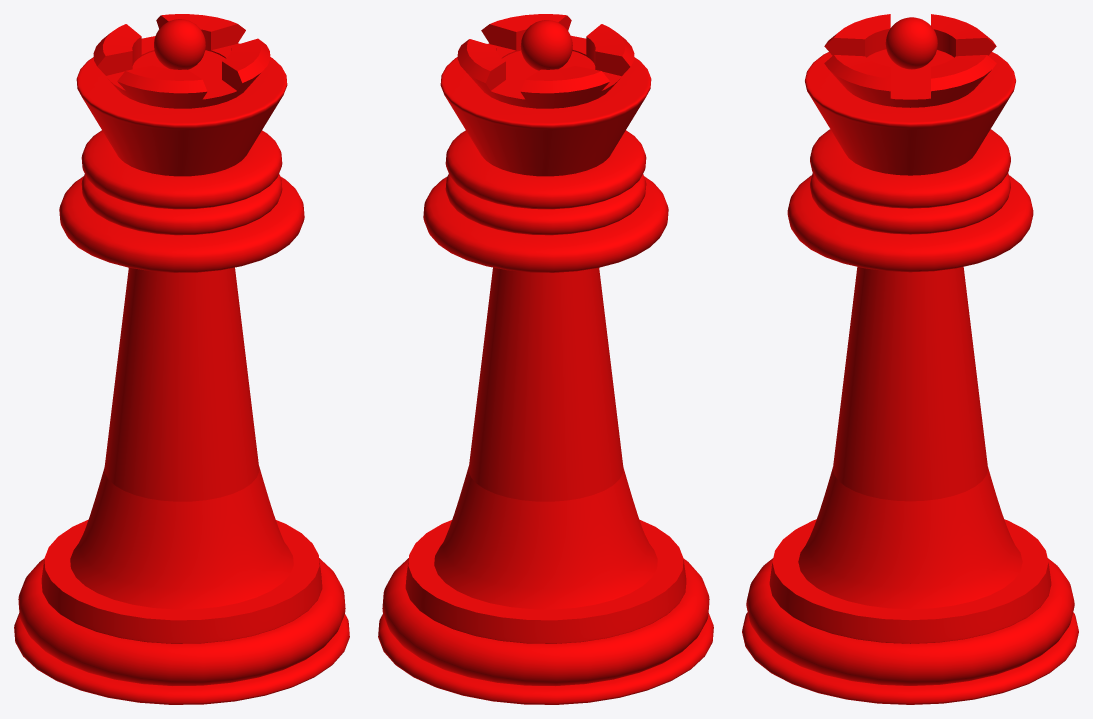
File: DA-ExemploVermelho.FBX
3 views of the same model, side by side, from view 1: azimuth 30°, elevation 25°; view 2: azimuth 150°, elevation 25°; view 3: azimuth 270°, elevation 25° (orthographic).
Parts seen in each view (by area): view 1: Arc01; view 2: Arc01; view 3: Arc01.
Boxes of the visible parts, bbox=[...] form: Arc01: bbox=[14, 14, 349, 704]; Arc01: bbox=[378, 14, 713, 704]; Arc01: bbox=[742, 14, 1078, 704].
Bounding box in the file's own units: 101 × 203 × 101.
